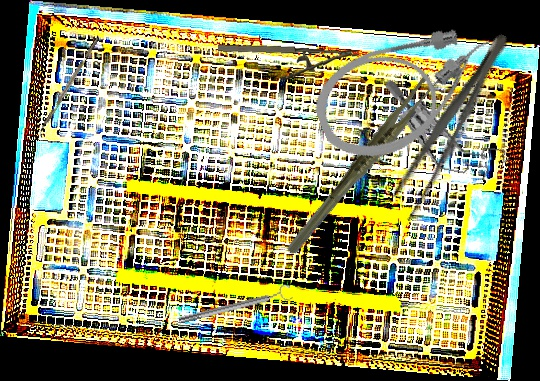Cannula: (302, 8, 515, 175)
Chopper: (35, 37, 104, 139)
Dressing Forceps: (383, 25, 519, 225)
Fixation Ring: (176, 283, 294, 329)
Needle Holder: (215, 40, 360, 85)
Speculum: (369, 77, 523, 187)
Tissue Forceps: (257, 69, 467, 258)
